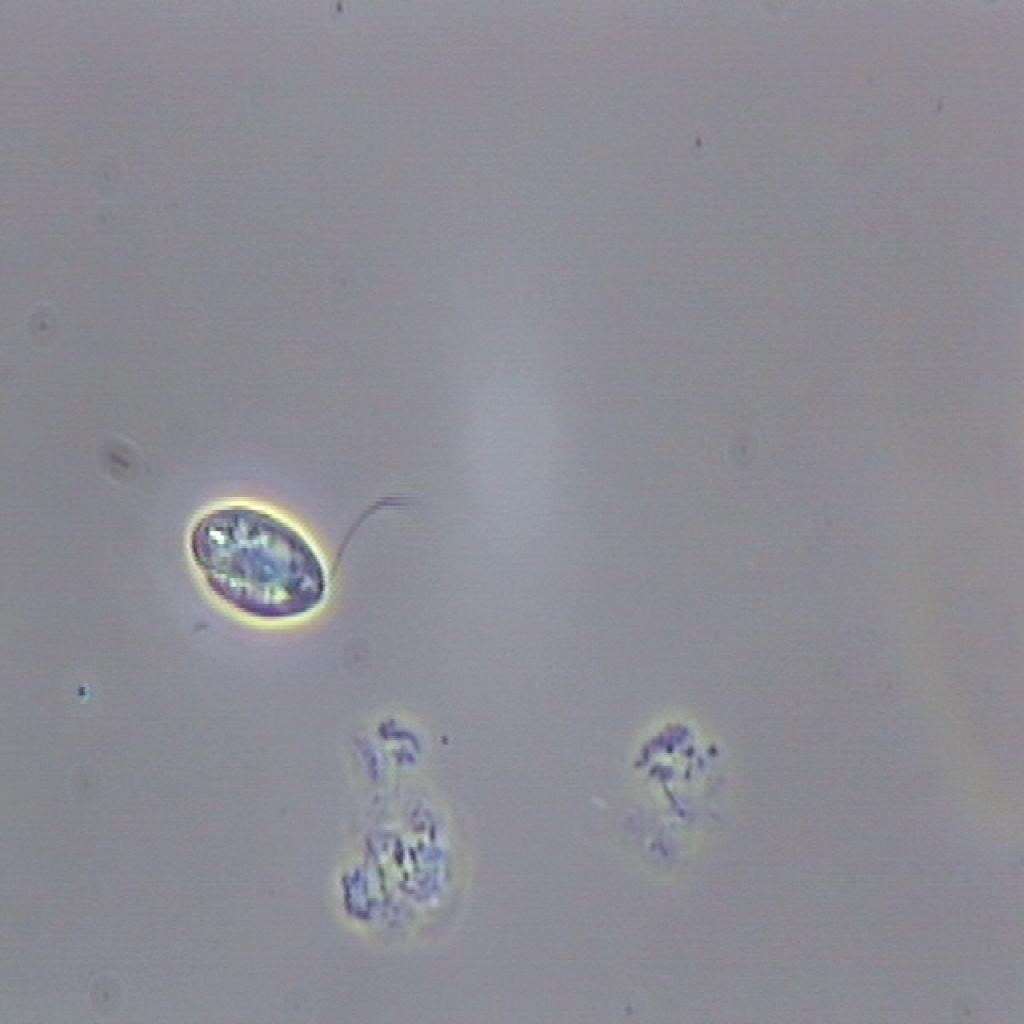Flagellates: (182, 476, 415, 650)
